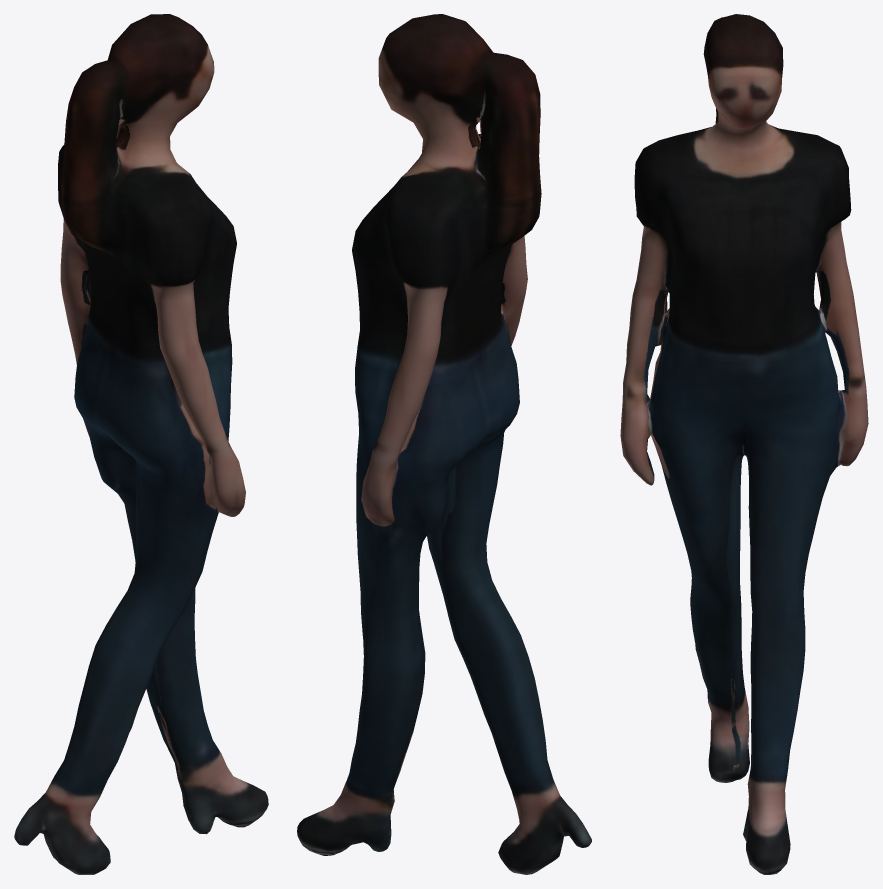
The model's file is escalamujer.obj.
3 renders of one model, left to right at view 1: azimuth 30°, elevation 25°; view 2: azimuth 150°, elevation 25°; view 3: azimuth 270°, elevation 25°, orthographic. The views are drawn at different scales.
Parts seen in each view (by area): view 1: escalamujer; view 2: escalamujer; view 3: escalamujer.
Boxes of the visible parts, bbox=[...] form: escalamujer: bbox=[14, 14, 268, 874]; escalamujer: bbox=[297, 14, 591, 874]; escalamujer: bbox=[620, 14, 868, 874].
Bounding box in the file's own units: 0.4695 × 1.4 × 0.3891.
Materials: 1 (1 with a texture image).
